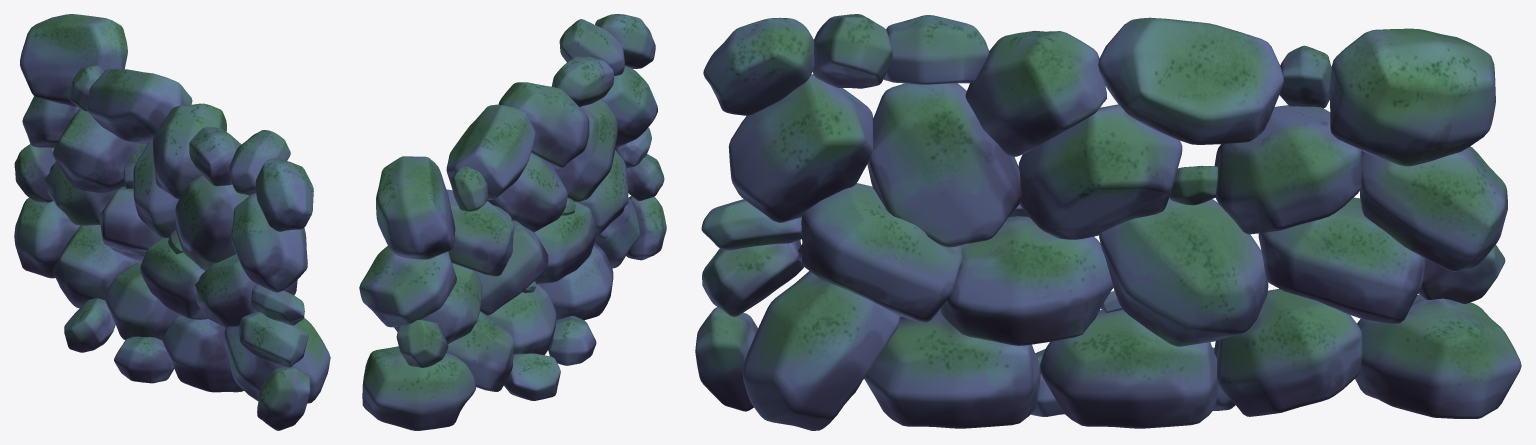
The model's file is RockWall.fbx.
3 renders of one model, left to right at view 1: azimuth 30°, elevation 25°; view 2: azimuth 150°, elevation 25°; view 3: azimuth 270°, elevation 25°, orthographic. The views are drawn at different scales.
Parts seen in each view (by area): view 1: Rock_group_5_Rocks_to_stack31; view 2: Rock_group_5_Rocks_to_stack31; view 3: Rock_group_5_Rocks_to_stack31.
Part boxes in pixels (x1,y1,x2,y2): Rock_group_5_Rocks_to_stack31: (14, 14, 330, 430); Rock_group_5_Rocks_to_stack31: (359, 14, 666, 430); Rock_group_5_Rocks_to_stack31: (695, 14, 1521, 430).
Bounding box in the file's own units: 1.39 × 2.93 × 4.96.
